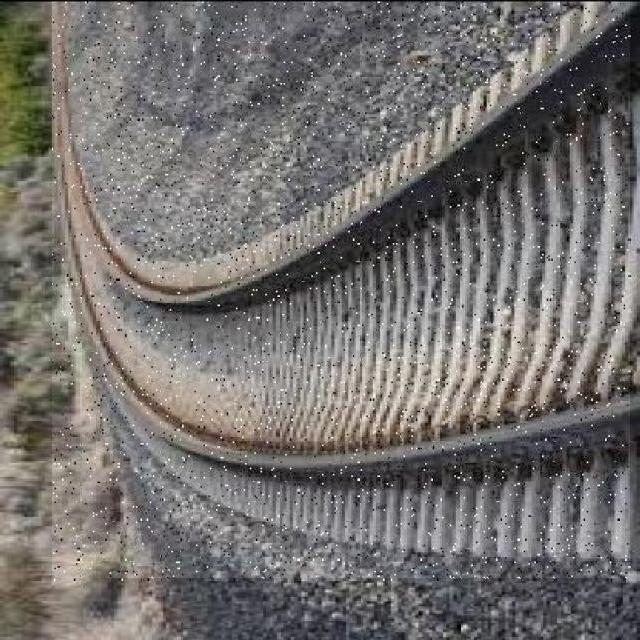rail: (53, 1, 631, 579)
